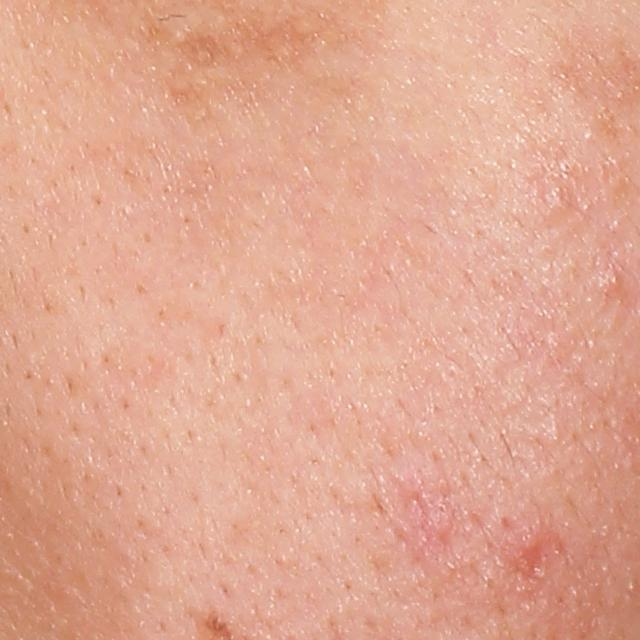comedo: (594, 263, 626, 298)
papule: (519, 530, 542, 557)
